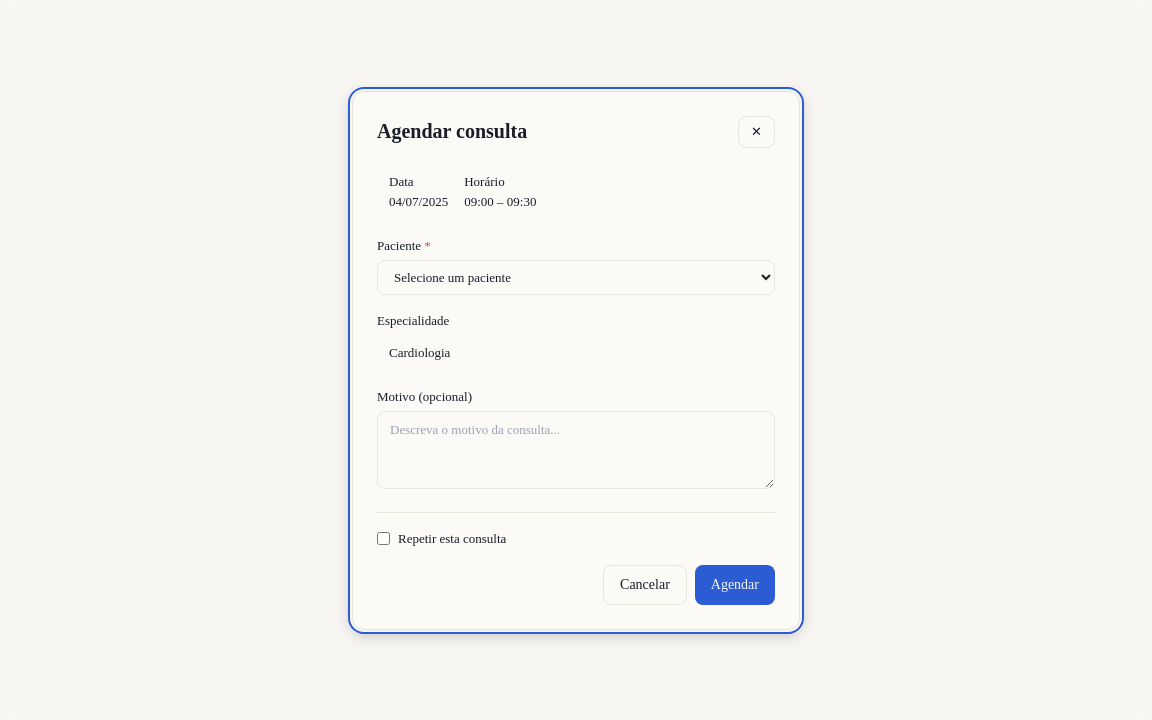
Test: BookAppointmentDialog (integration) › shows 422 invalid slot error alert
This screenshot has width=1152, height=720.
Step 1. Select "Patient One" in the dropdown with test id "book-dialog-patient" → x=576, y=277, box left=377, top=260, right=775, bottom=294
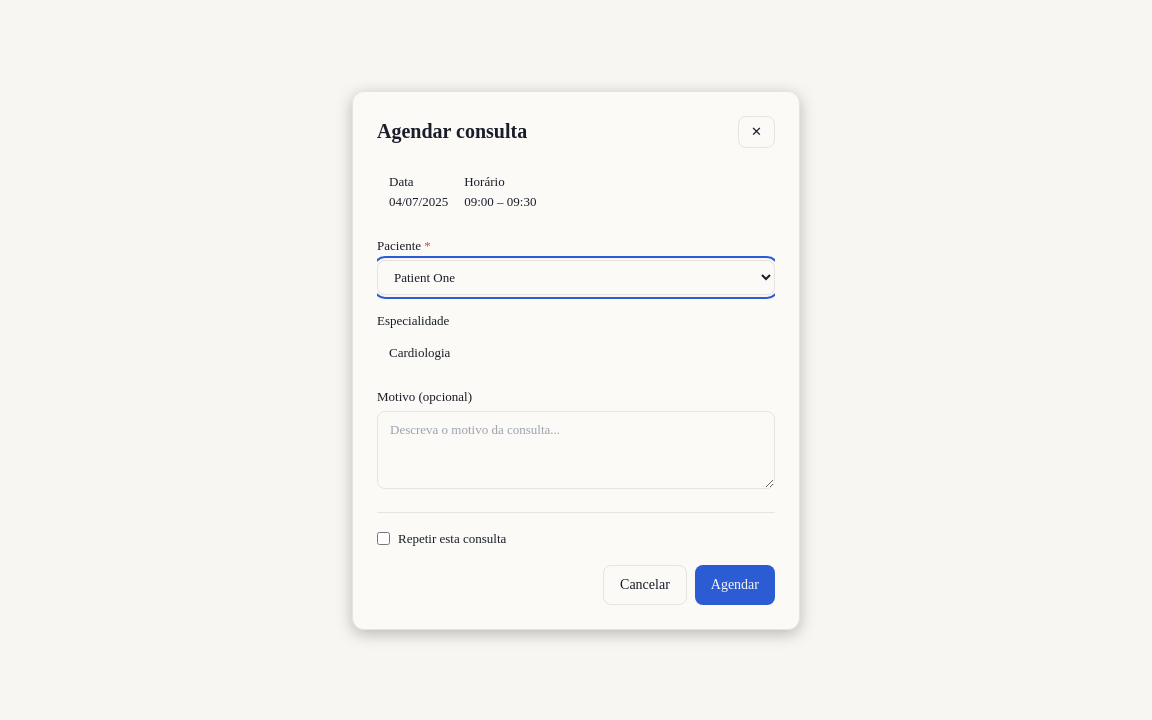
Step 2. Click the button with test id "book-dialog-submit" → x=735, y=584, box left=695, top=564, right=775, bottom=604
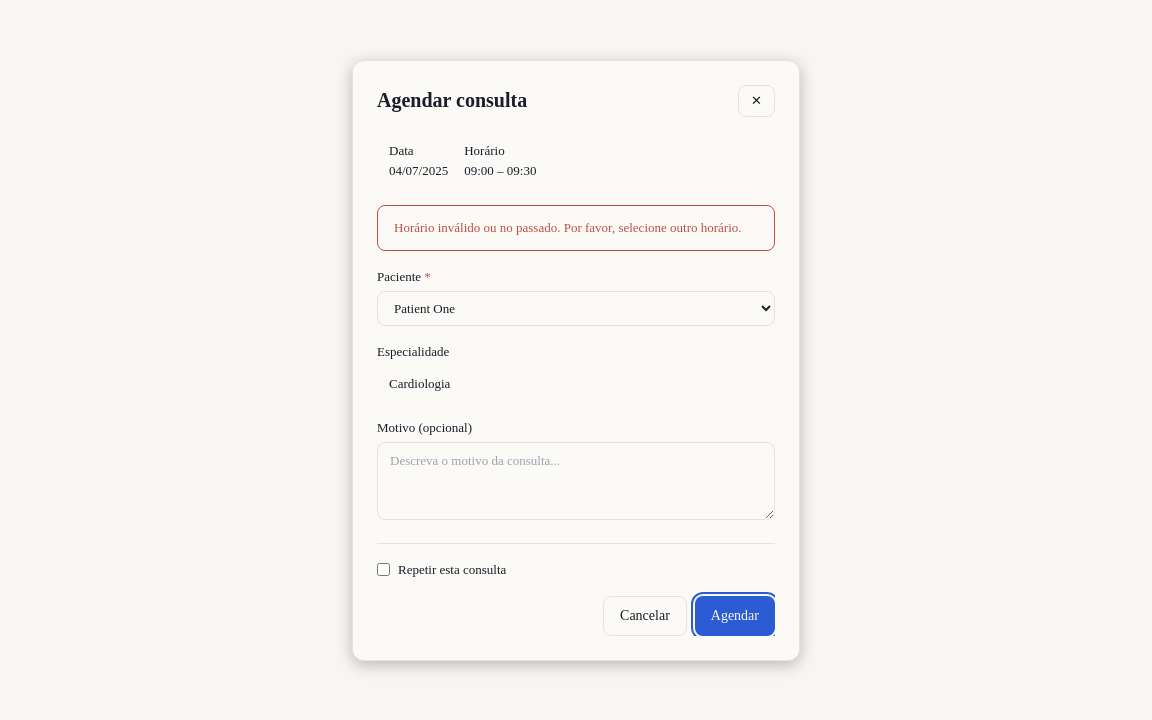
Expected: the message "Horário inválido ou no passado. Por favor, selecione outro horário." is shown, left=377, top=204, right=775, bottom=250
Expected: the message with test id "book-dialog-error" shows "inválido ou no passado", left=394, top=220, right=742, bottom=234
